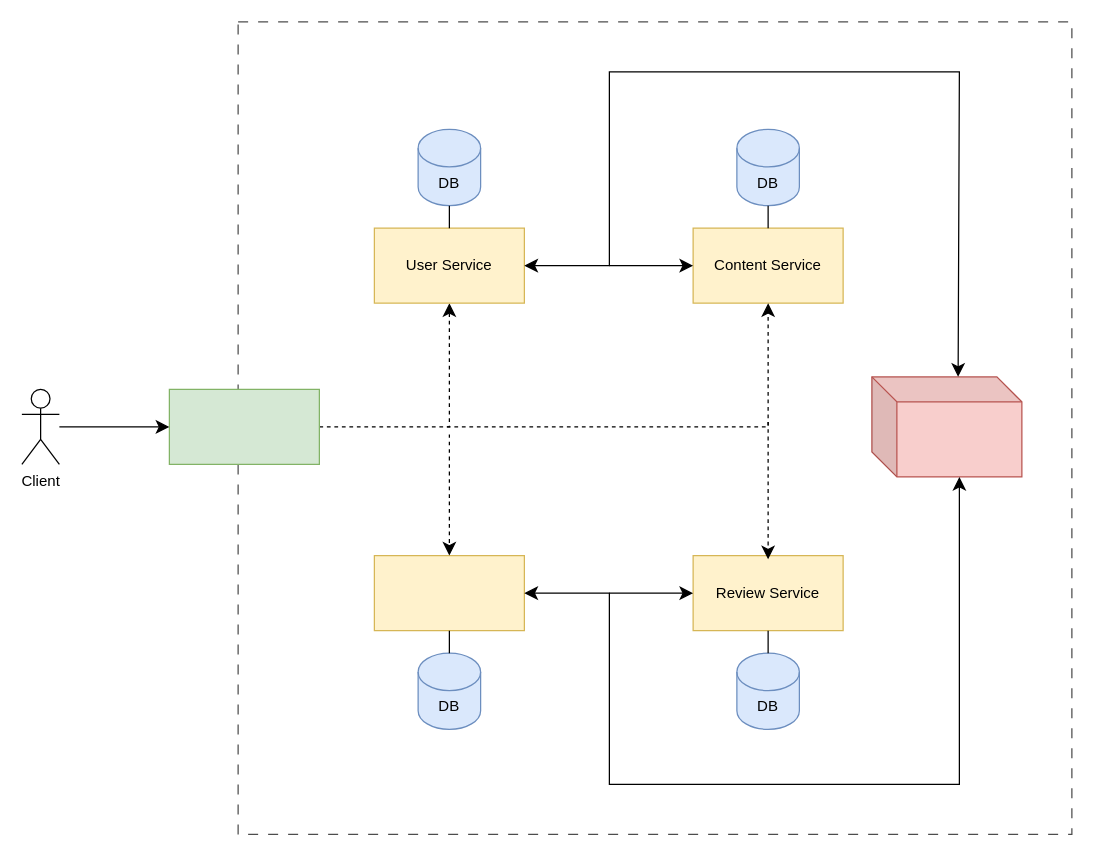
Image size: 1094x856. Some labels were removed from this diagram. The shapes that lost their labels are listed below. From the top down, each one's centre as x and y in pixels, then its label:
At point (243, 426): "Gateway".
At point (946, 426): "RabbitMQ".
At point (448, 592): "Recommandation Service".
